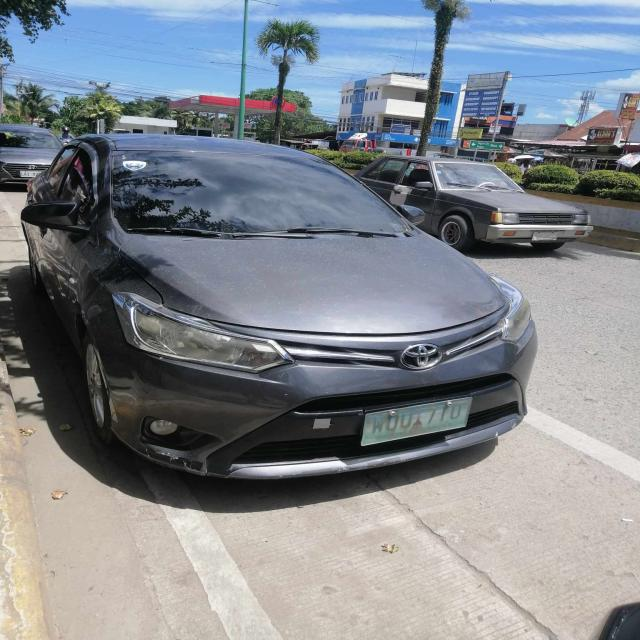license-plate: (359, 396, 475, 448)
